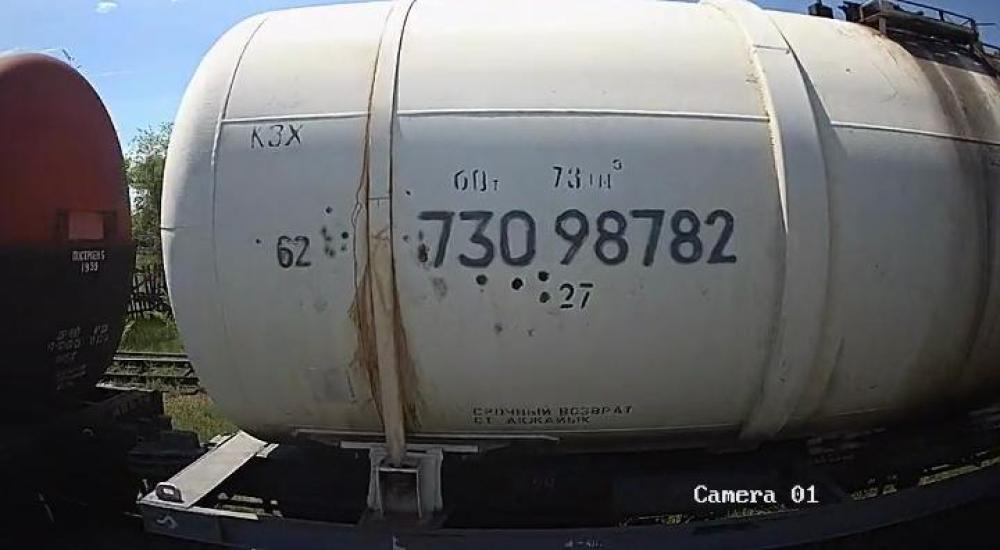Wagon-number: (414, 201, 745, 271)
